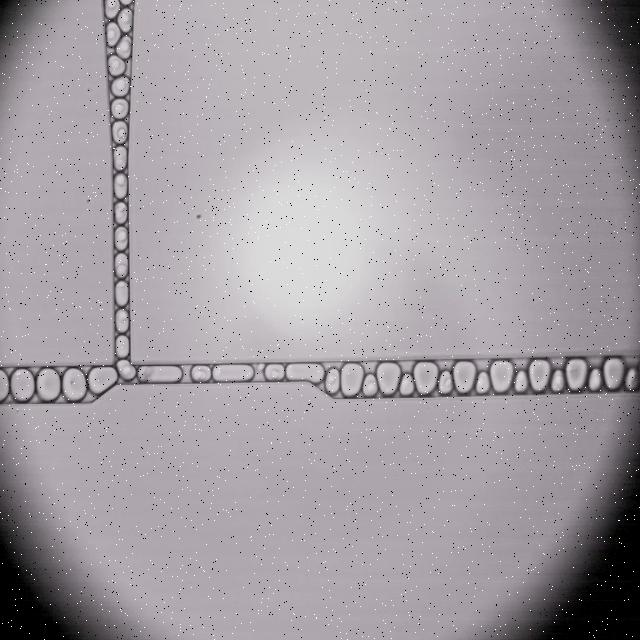L: (325, 367, 339, 393), (111, 76, 129, 96), (116, 36, 131, 59), (109, 55, 125, 76), (113, 146, 127, 170), (112, 121, 127, 143), (114, 173, 127, 198), (111, 99, 128, 118), (118, 360, 135, 379), (118, 9, 132, 32), (191, 366, 211, 382), (107, 22, 120, 46), (114, 253, 127, 277), (115, 281, 128, 305), (115, 335, 129, 357), (363, 374, 377, 396), (400, 374, 414, 396), (588, 369, 602, 391), (265, 364, 284, 380), (115, 309, 128, 332), (115, 227, 128, 249), (439, 372, 452, 394), (625, 368, 638, 390), (476, 372, 489, 393), (551, 370, 564, 391), (105, 0, 119, 18), (115, 202, 127, 223), (515, 371, 527, 392)
S: (414, 362, 438, 395), (89, 366, 117, 394), (62, 369, 86, 401), (341, 363, 364, 396), (377, 362, 400, 395), (11, 369, 34, 401), (37, 369, 60, 401), (490, 361, 513, 392), (454, 361, 476, 393), (286, 364, 324, 382), (213, 364, 253, 381), (139, 366, 181, 382), (566, 359, 587, 391), (529, 360, 550, 391), (603, 358, 623, 389), (0, 370, 9, 401)
